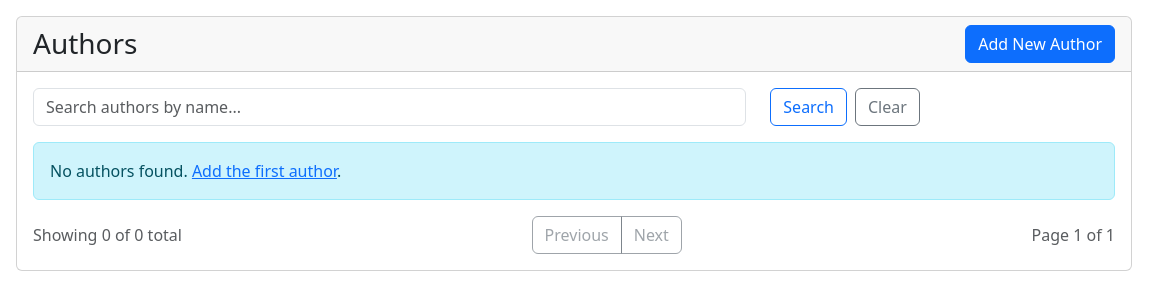
Test: AuthorList › Search Functionality › should handle clear search
In the field with placeholder "Search authors by name...": (390, 107) [33,88,746,126], type "John"
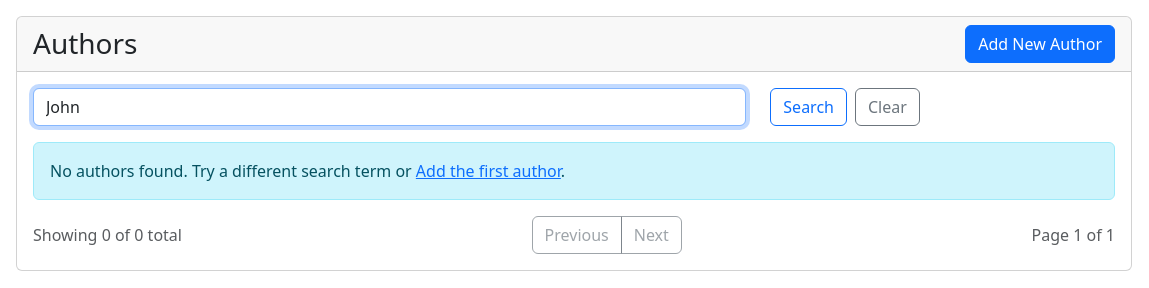
Click the button "Clear": (887, 107) [855,88,920,126]
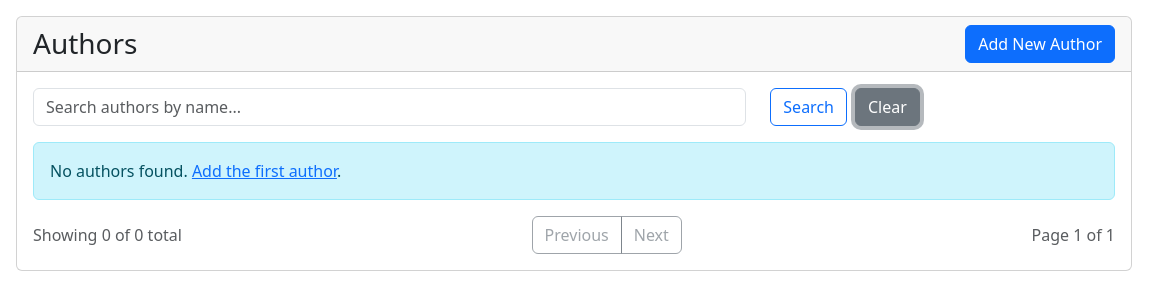
Expected: the field with placeholder "Search authors by name..." is empty, [33,88,746,126]
